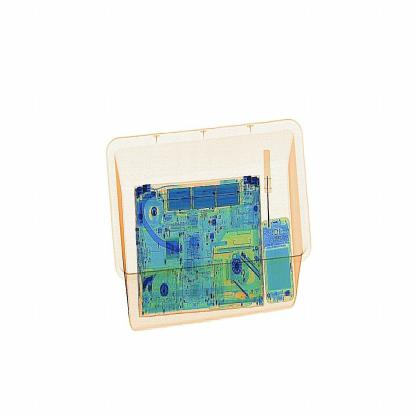wrench: (257, 139, 279, 231)
